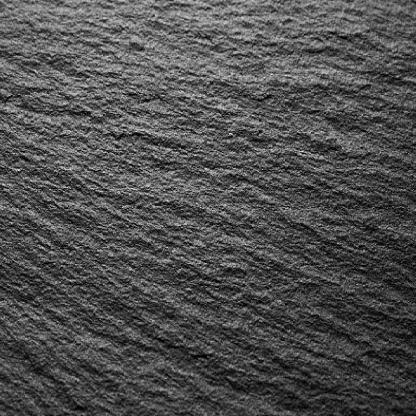Sedimentary_Sandstone: (0, 0, 414, 415)
